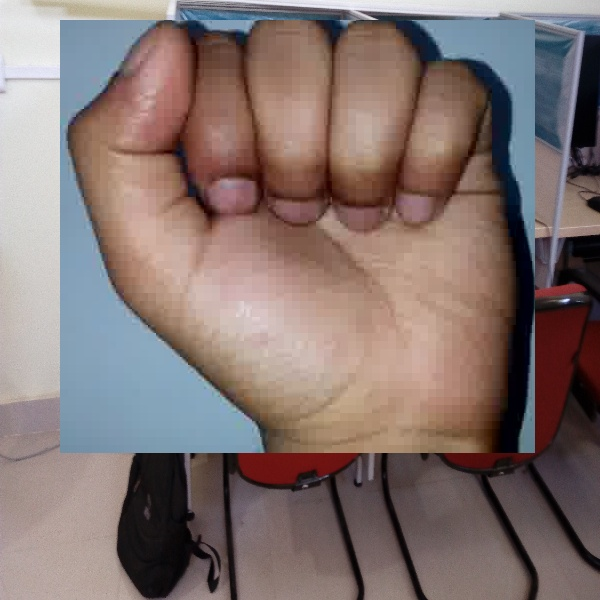A: (60, 20, 535, 453)
